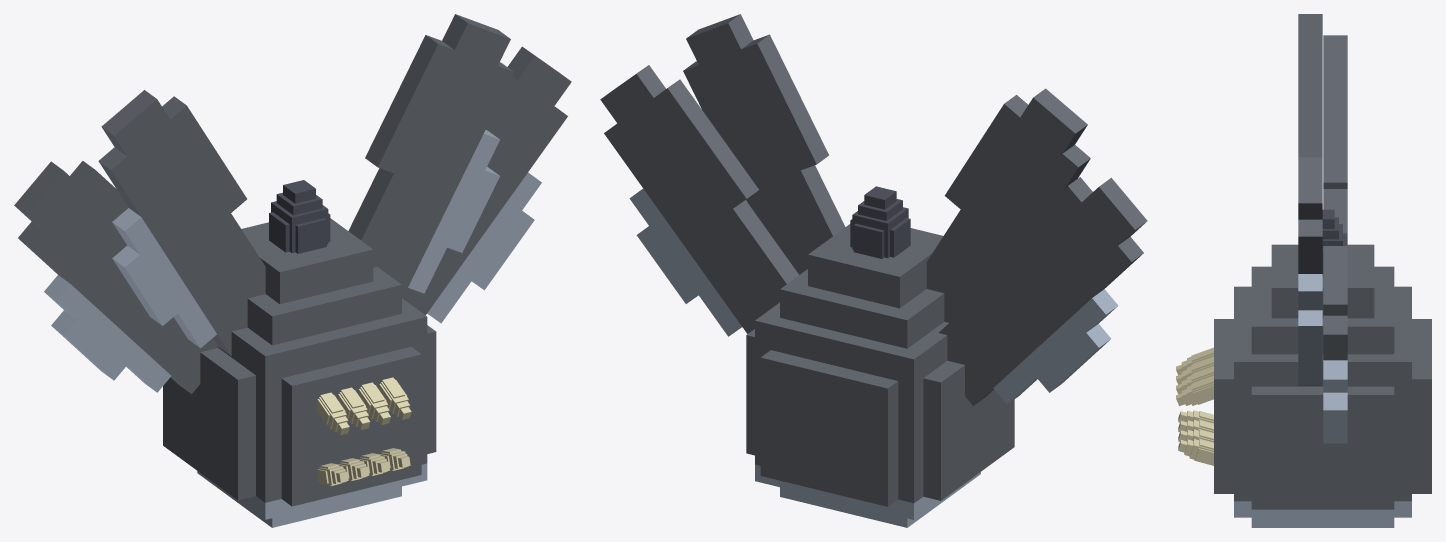
File: 64.Mosasau.fbx
The picture shows the model from 3 angles, left to right: view 1: azimuth 30°, elevation 25°; view 2: azimuth 150°, elevation 25°; view 3: azimuth 270°, elevation 25°; orthographic projection. The views are drawn at different scales.
Visible parts, largest first — view 1: Mosasau; view 2: Mosasau; view 3: Mosasau.
Part boxes in pixels (x1=…): Mosasau: x1=14, y1=14, x2=571, y2=527; Mosasau: x1=600, y1=14, x2=1147, y2=527; Mosasau: x1=1176, y1=14, x2=1431, y2=527.
Size of the model in its own units: 7.93 by 6.02 by 3.39.
